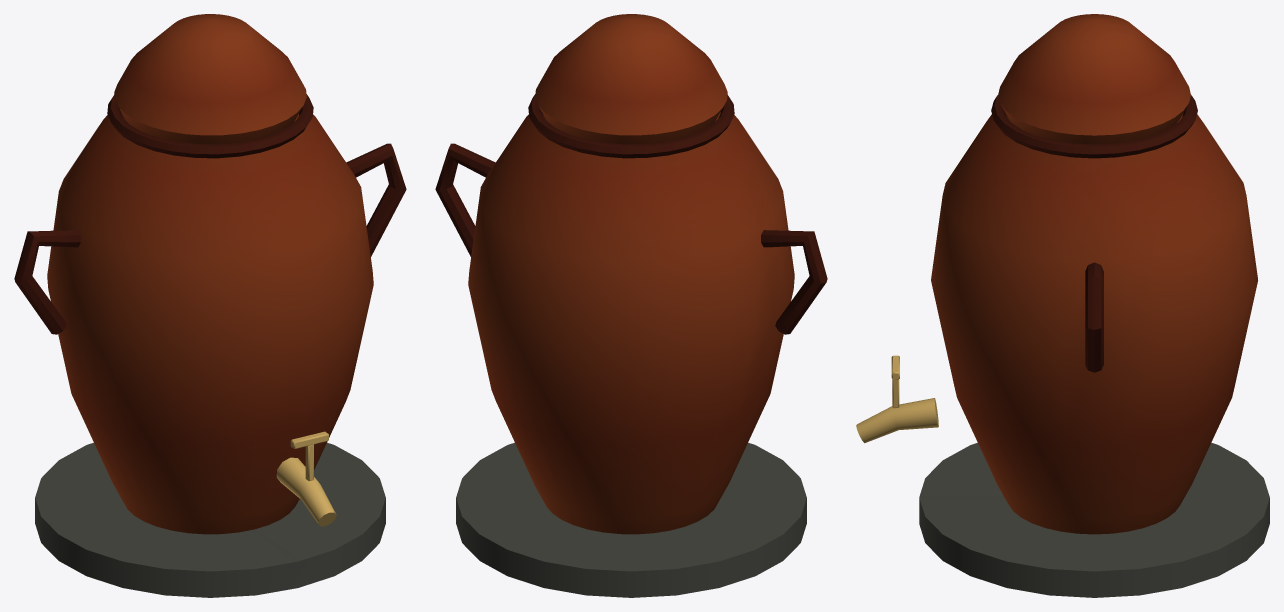
File: tea-copper-urn.glb
The picture shows the model from 3 angles, left to right: view 1: azimuth 30°, elevation 25°; view 2: azimuth 150°, elevation 25°; view 3: azimuth 270°, elevation 25°; orthographic projection.
Visible parts, largest first — view 1: body__metal, base__stone, tap__brass; view 2: body__metal, base__stone; view 3: body__metal, base__stone, tap__brass.
Boxes of the visible parts, box(x1,y1,x2,y2) form: body__metal: box(14, 14, 406, 534); base__stone: box(35, 442, 385, 597); tap__brass: box(276, 431, 336, 526); body__metal: box(435, 14, 827, 534); base__stone: box(456, 442, 806, 597); body__metal: box(931, 14, 1257, 534); base__stone: box(919, 442, 1269, 597); tap__brass: box(856, 355, 938, 443).
Bounding box in the file's own units: 0.7708 × 0.95 × 0.708.
